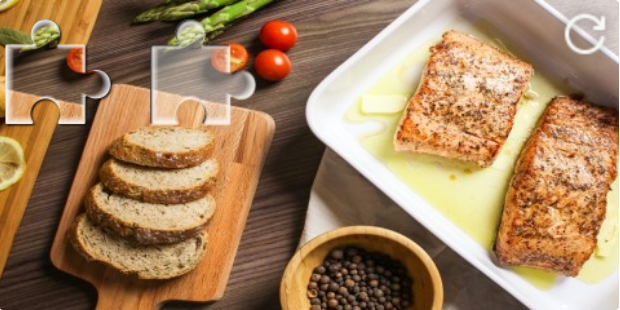target: (151, 21, 255, 126)
